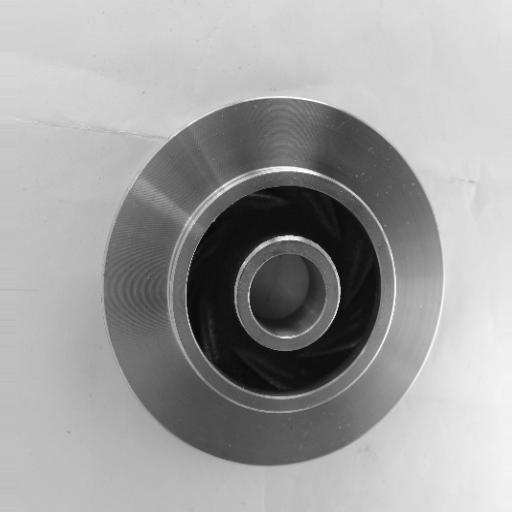polished_casting: (102, 96, 446, 469)
